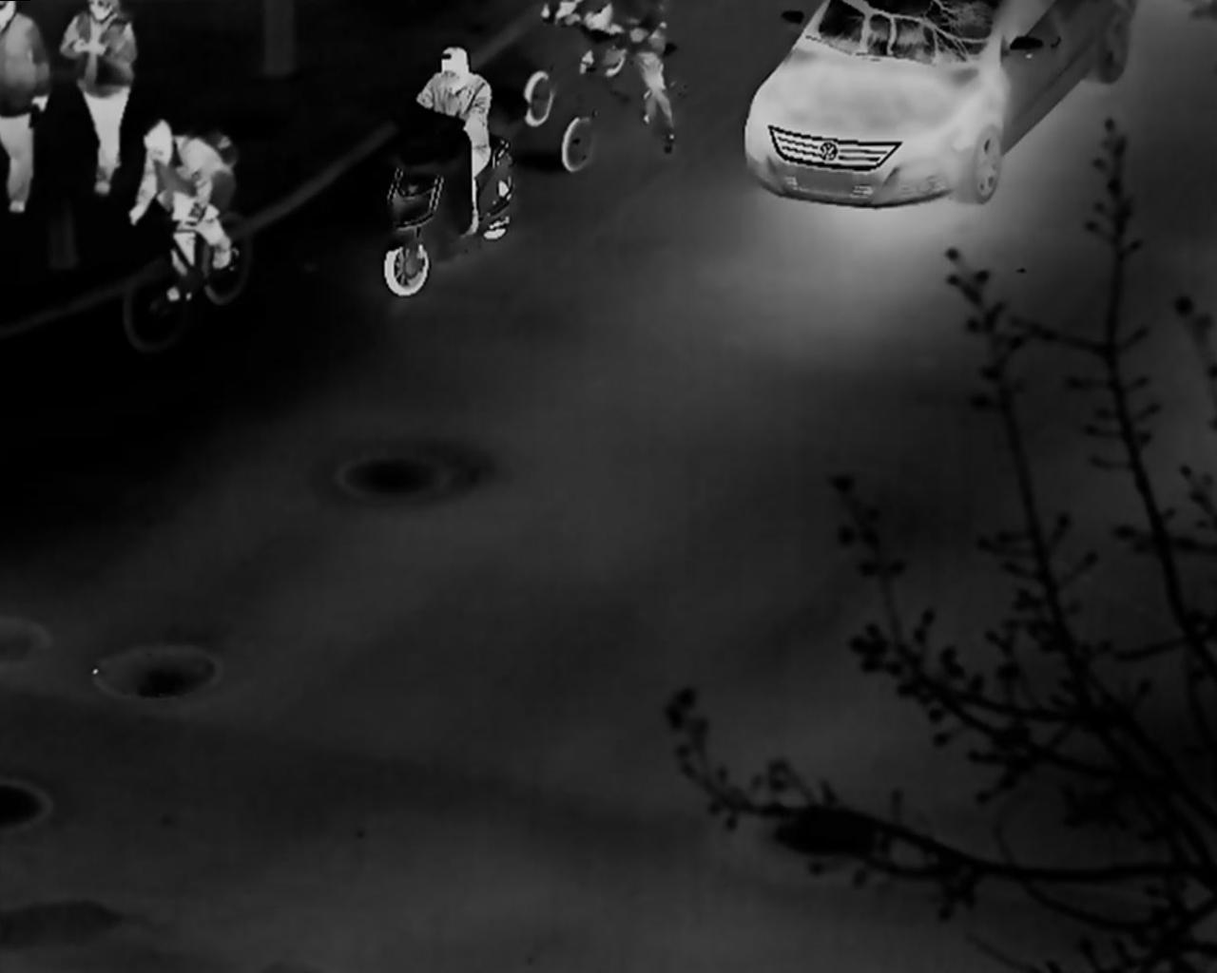person: (125, 118, 236, 304), (554, 5, 681, 152), (413, 45, 493, 239), (61, 2, 133, 194)
